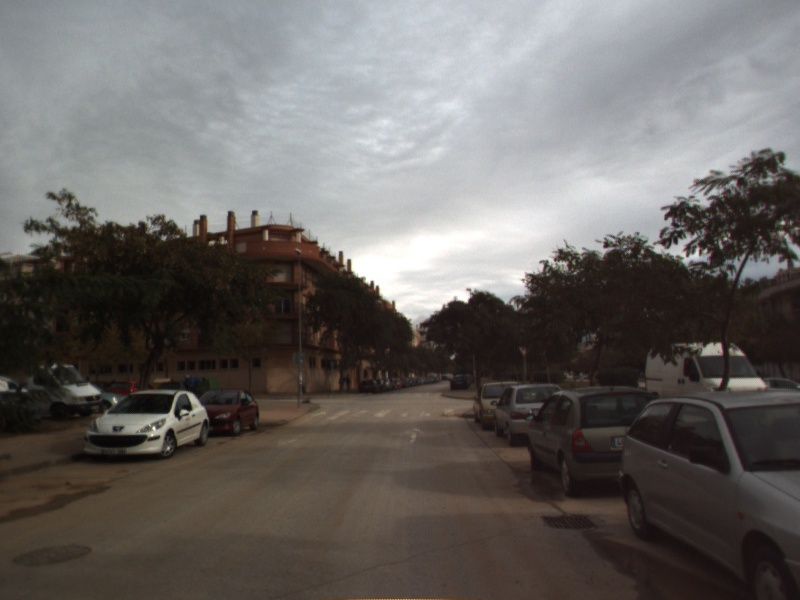STRAIGHT: (401, 426, 428, 446)
